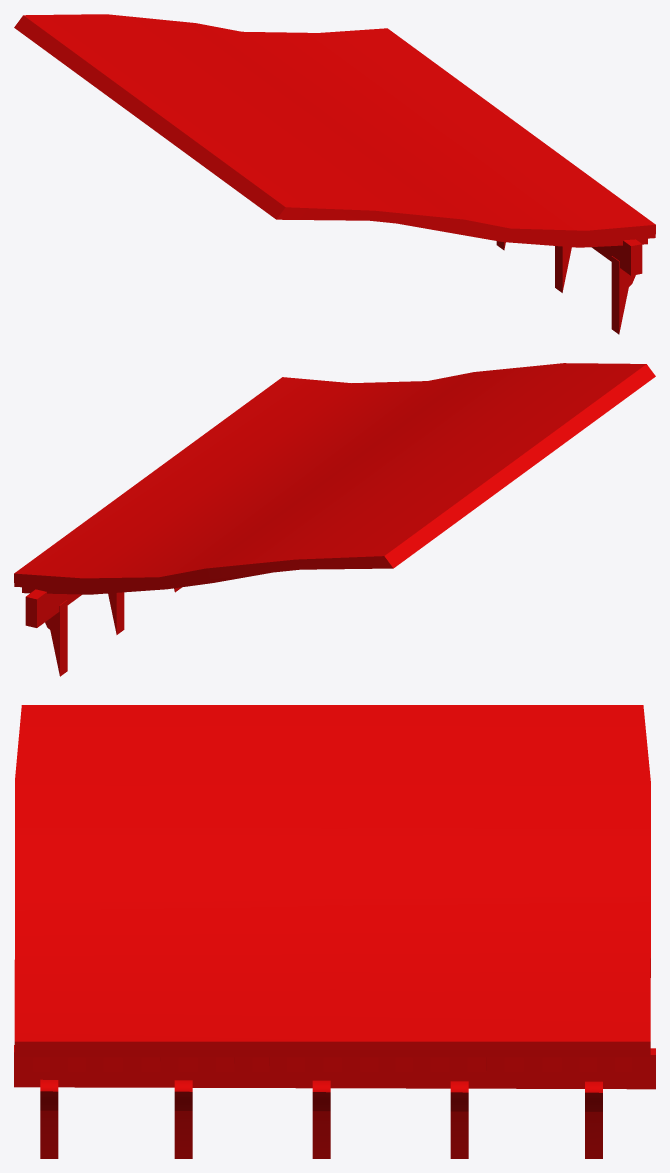
The model's file is shortcastletiles.fbx.
3 views of the same model, one above another, from view 1: azimuth 30°, elevation 25°; view 2: azimuth 150°, elevation 25°; view 3: azimuth 270°, elevation 25° (orthographic). The views are drawn at different scales.
Visible parts, largest first — view 1: smalltubewallofficial; view 2: smalltubewallofficial; view 3: smalltubewallofficial.
Boxes of the visible parts, x1,y1,x2,y2 form: smalltubewallofficial: (14,14,655,334); smalltubewallofficial: (14,363,655,676); smalltubewallofficial: (14,705,655,1158).
Size of the model in its own units: 249 by 137 by 310.
